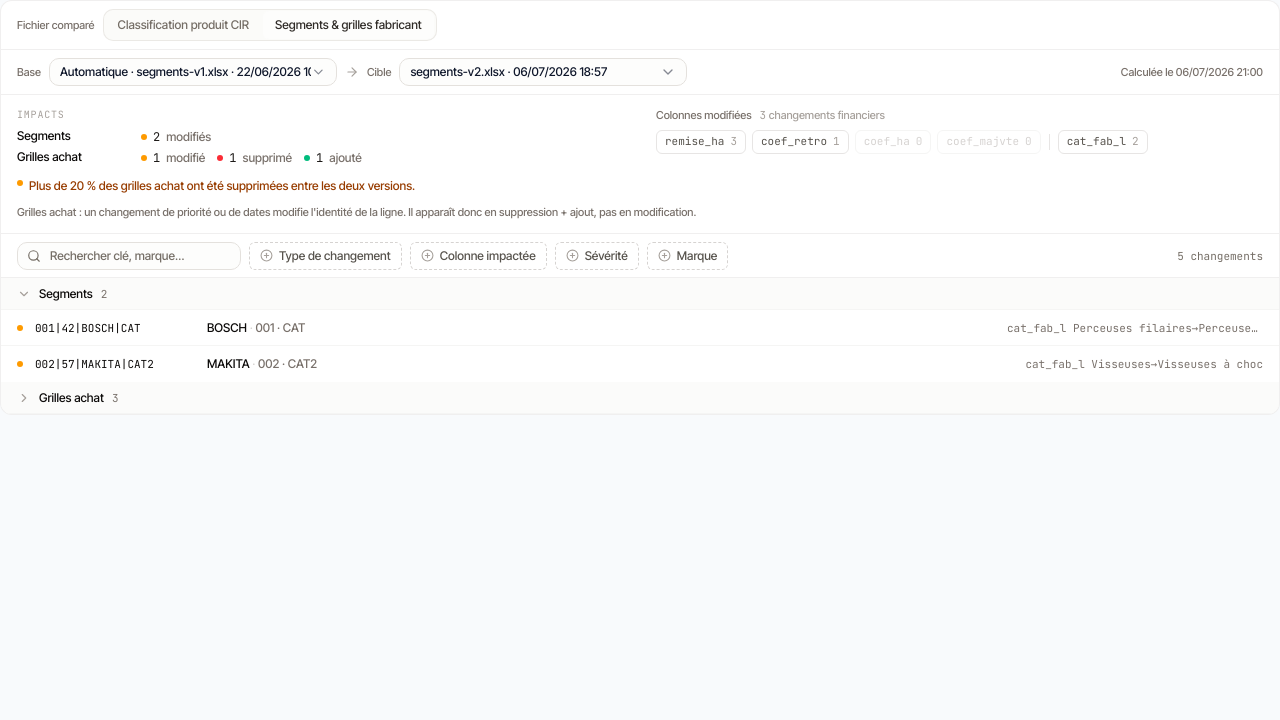
Test case: ChangesTriage › priorise les colonnes financières dans la facette Colonne impactée
Expected: the text "Impacts" is shown, 17,108 -> 65,121
What coordinates should you click on to do the following:
click the button "Colonne impactée"
I would click on:
 (478, 256)
Its box is 410,242 -> 547,270.
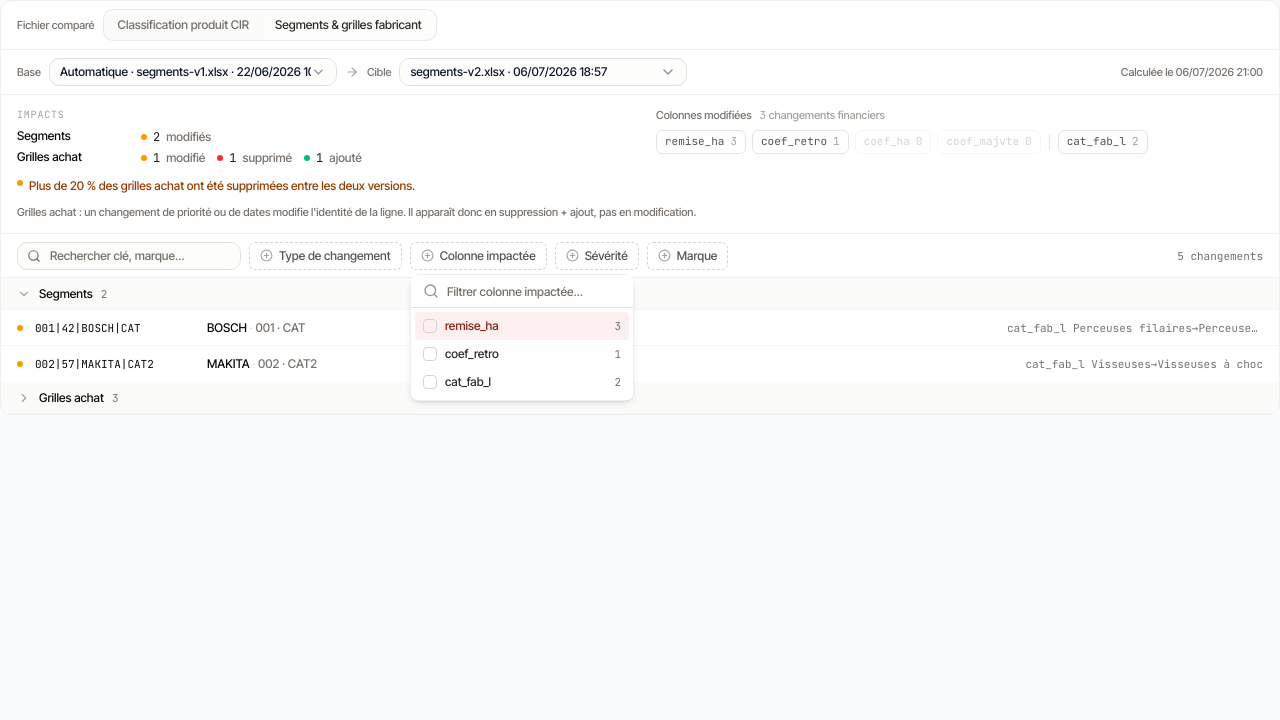
Now the option "remise_ha 3" is shown, box 415,312 -> 629,340
Now the option "coef_retro 1" is shown, box 423,346 -> 621,361
Now the option "cat_fab_l 2" is shown, box 423,374 -> 621,389
